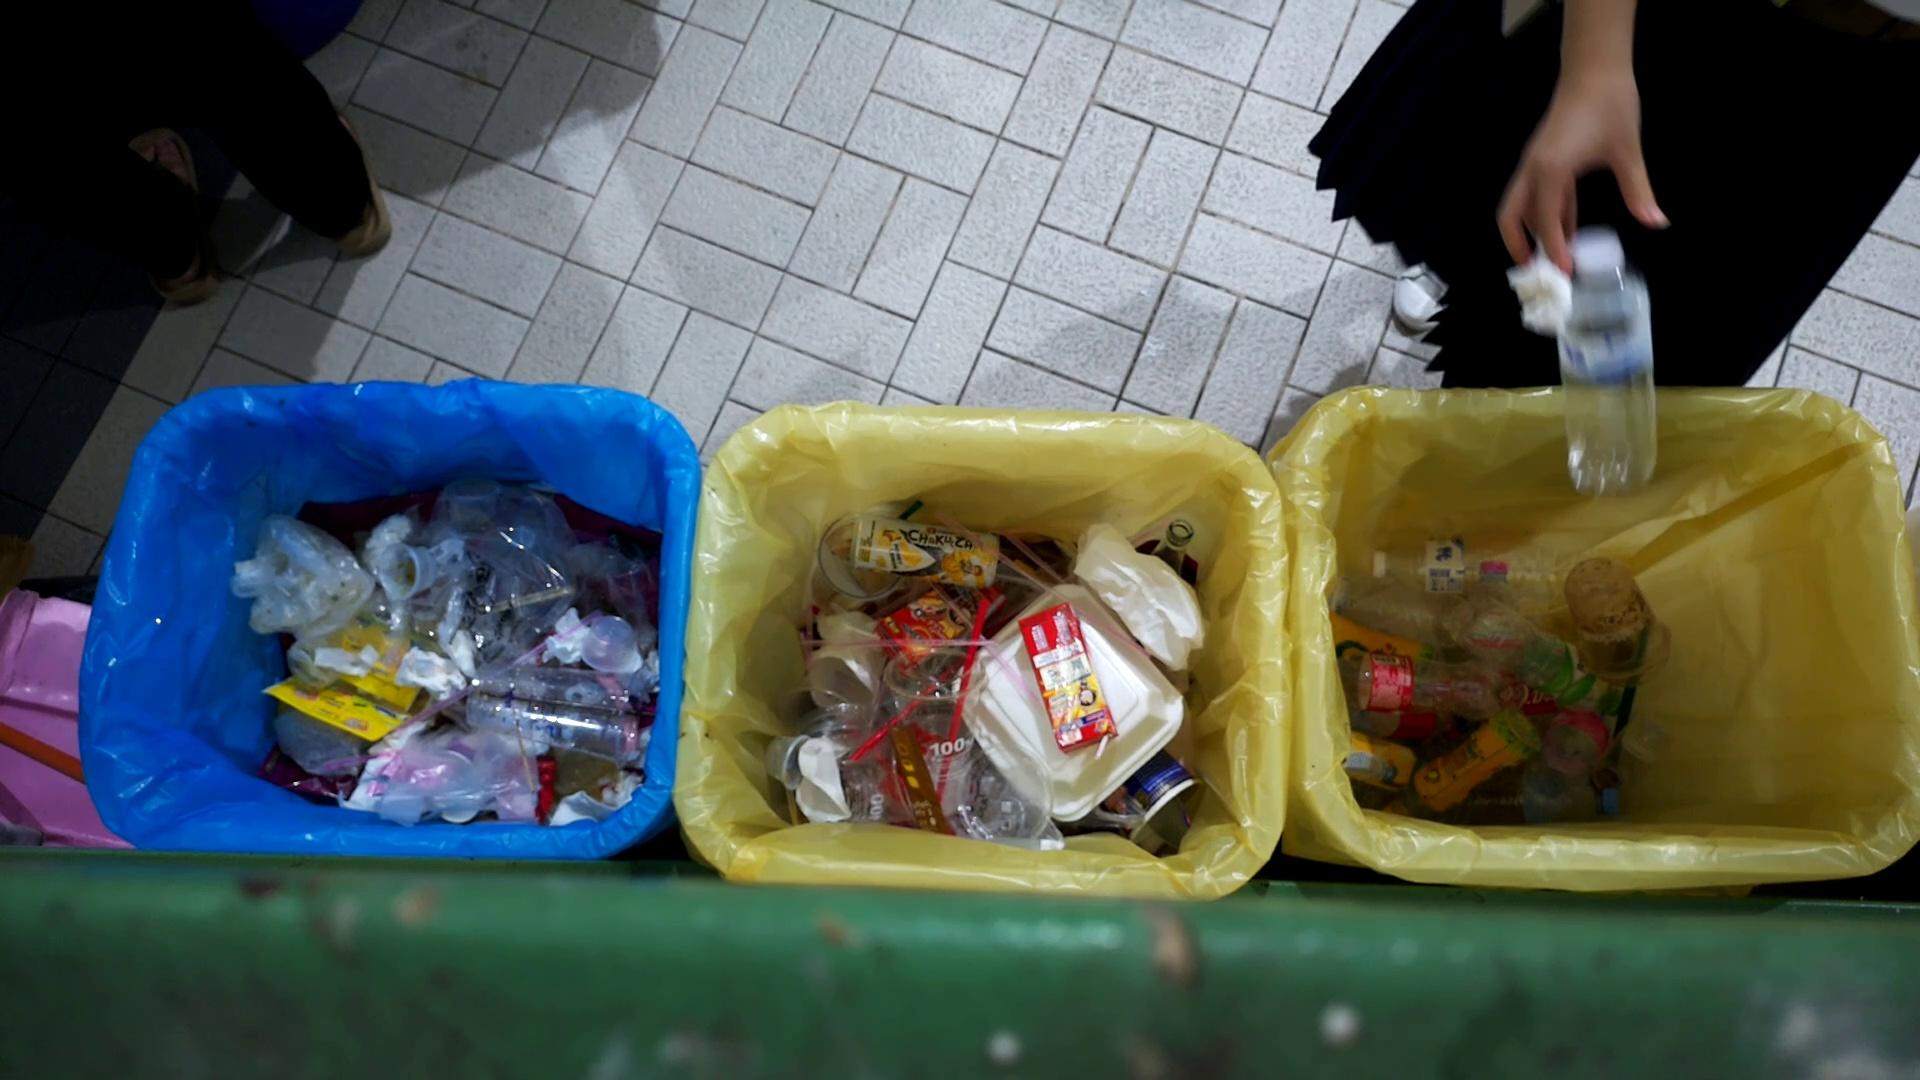can: (844, 509, 1004, 591)
filled plastic bag: (384, 473, 580, 687)
food container: (795, 736, 856, 825), (373, 541, 438, 604), (579, 615, 642, 675), (761, 731, 814, 796)
milk carton: (1014, 591, 1121, 761), (874, 576, 1006, 673)
plastic bag: (1072, 522, 1215, 678), (228, 509, 378, 647), (375, 716, 542, 831)
plastic bottle: (1548, 228, 1663, 497), (1440, 591, 1633, 721), (1379, 704, 1548, 815), (1369, 531, 1593, 597), (1337, 651, 1509, 719), (1518, 711, 1607, 814)
plastic cup: (463, 661, 645, 771), (880, 646, 992, 822), (1559, 551, 1677, 688), (953, 740, 1059, 852)
straw: (930, 512, 1154, 661), (926, 579, 1040, 707), (848, 658, 961, 765), (936, 596, 993, 804), (1610, 622, 1654, 770), (479, 688, 657, 721), (794, 637, 1000, 649), (841, 621, 885, 640)
tissue paper: (1509, 249, 1572, 339), (392, 646, 469, 703), (537, 607, 592, 665), (433, 620, 481, 679), (310, 641, 382, 679)
